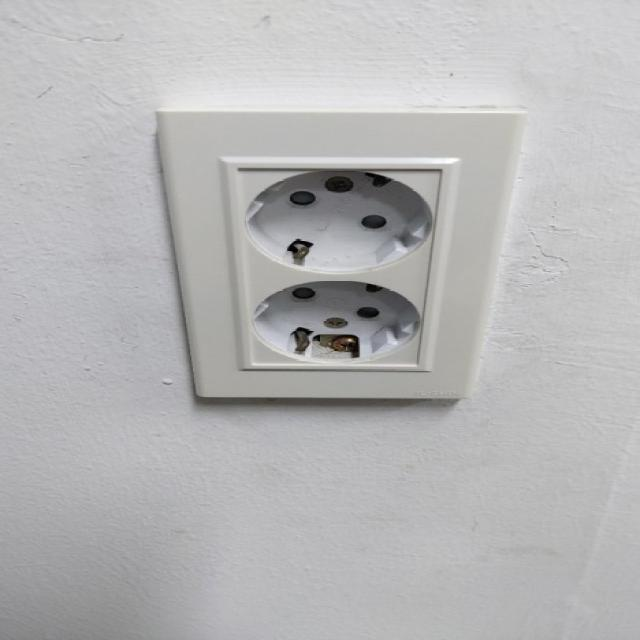typeb: (115, 75, 542, 462)
